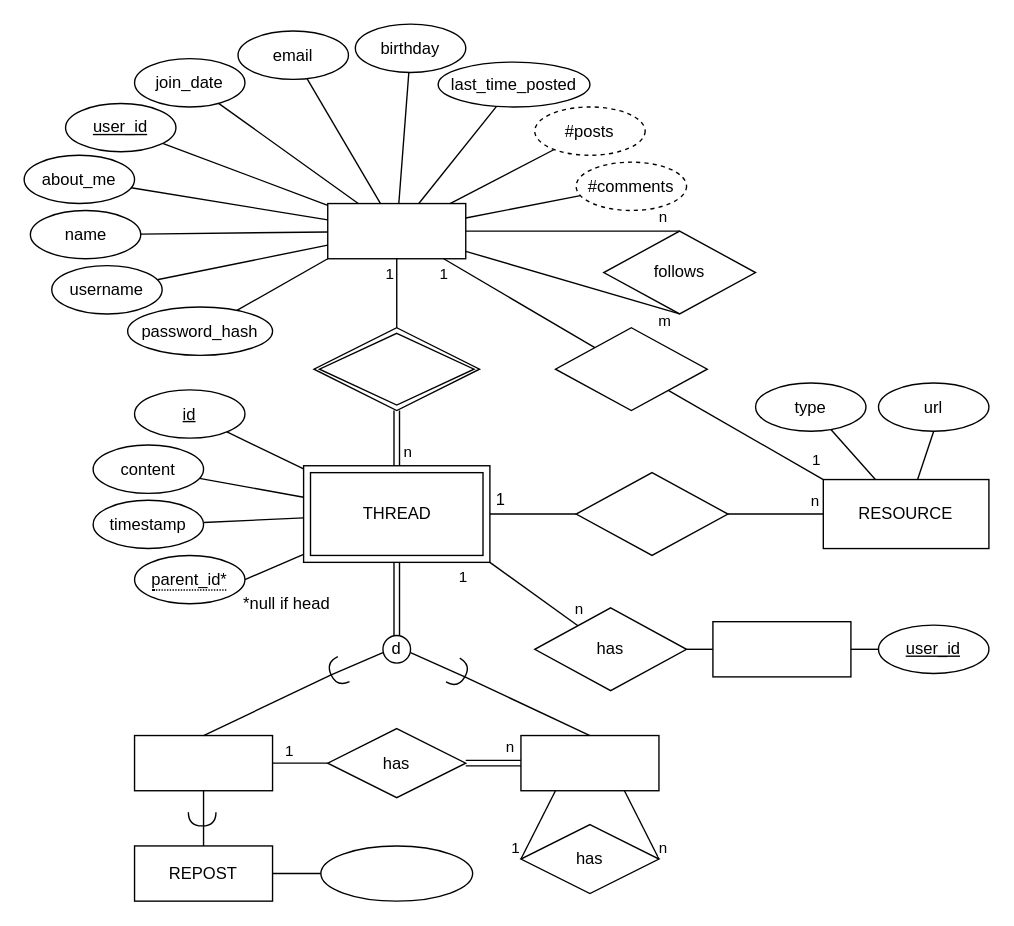
Image size: 1014x926. Some labels were removed from this diagram. The shapes that lost their labels are listed below. From the top down, each one's centre as x and y in pixels, then its label:
(x=396, y=230): USER
(x=396, y=368): creates
(x=630, y=368): has_pfp
(x=651, y=513): has_attachment
(x=781, y=648): LIKE
(x=203, y=762): POST
(x=589, y=762): COMMENT
(x=396, y=873): original_post_id
